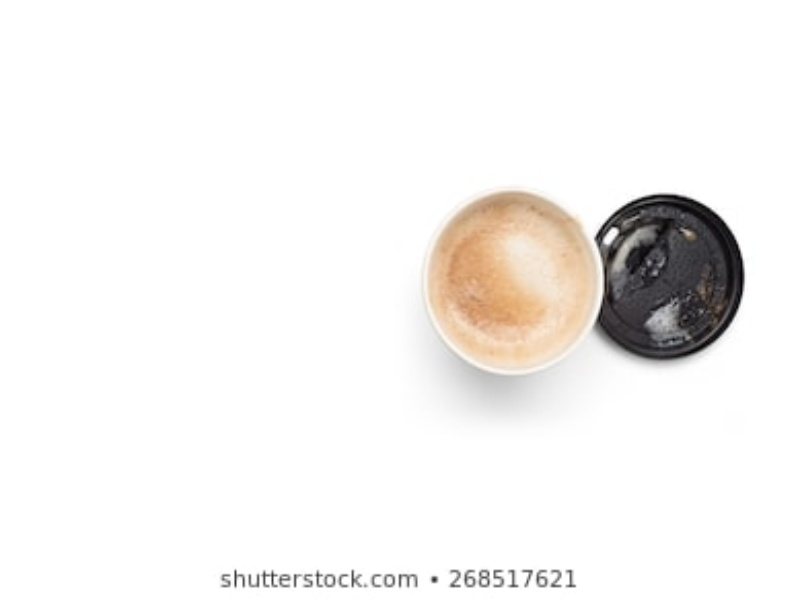coffee-lid: (589, 178, 751, 362)
